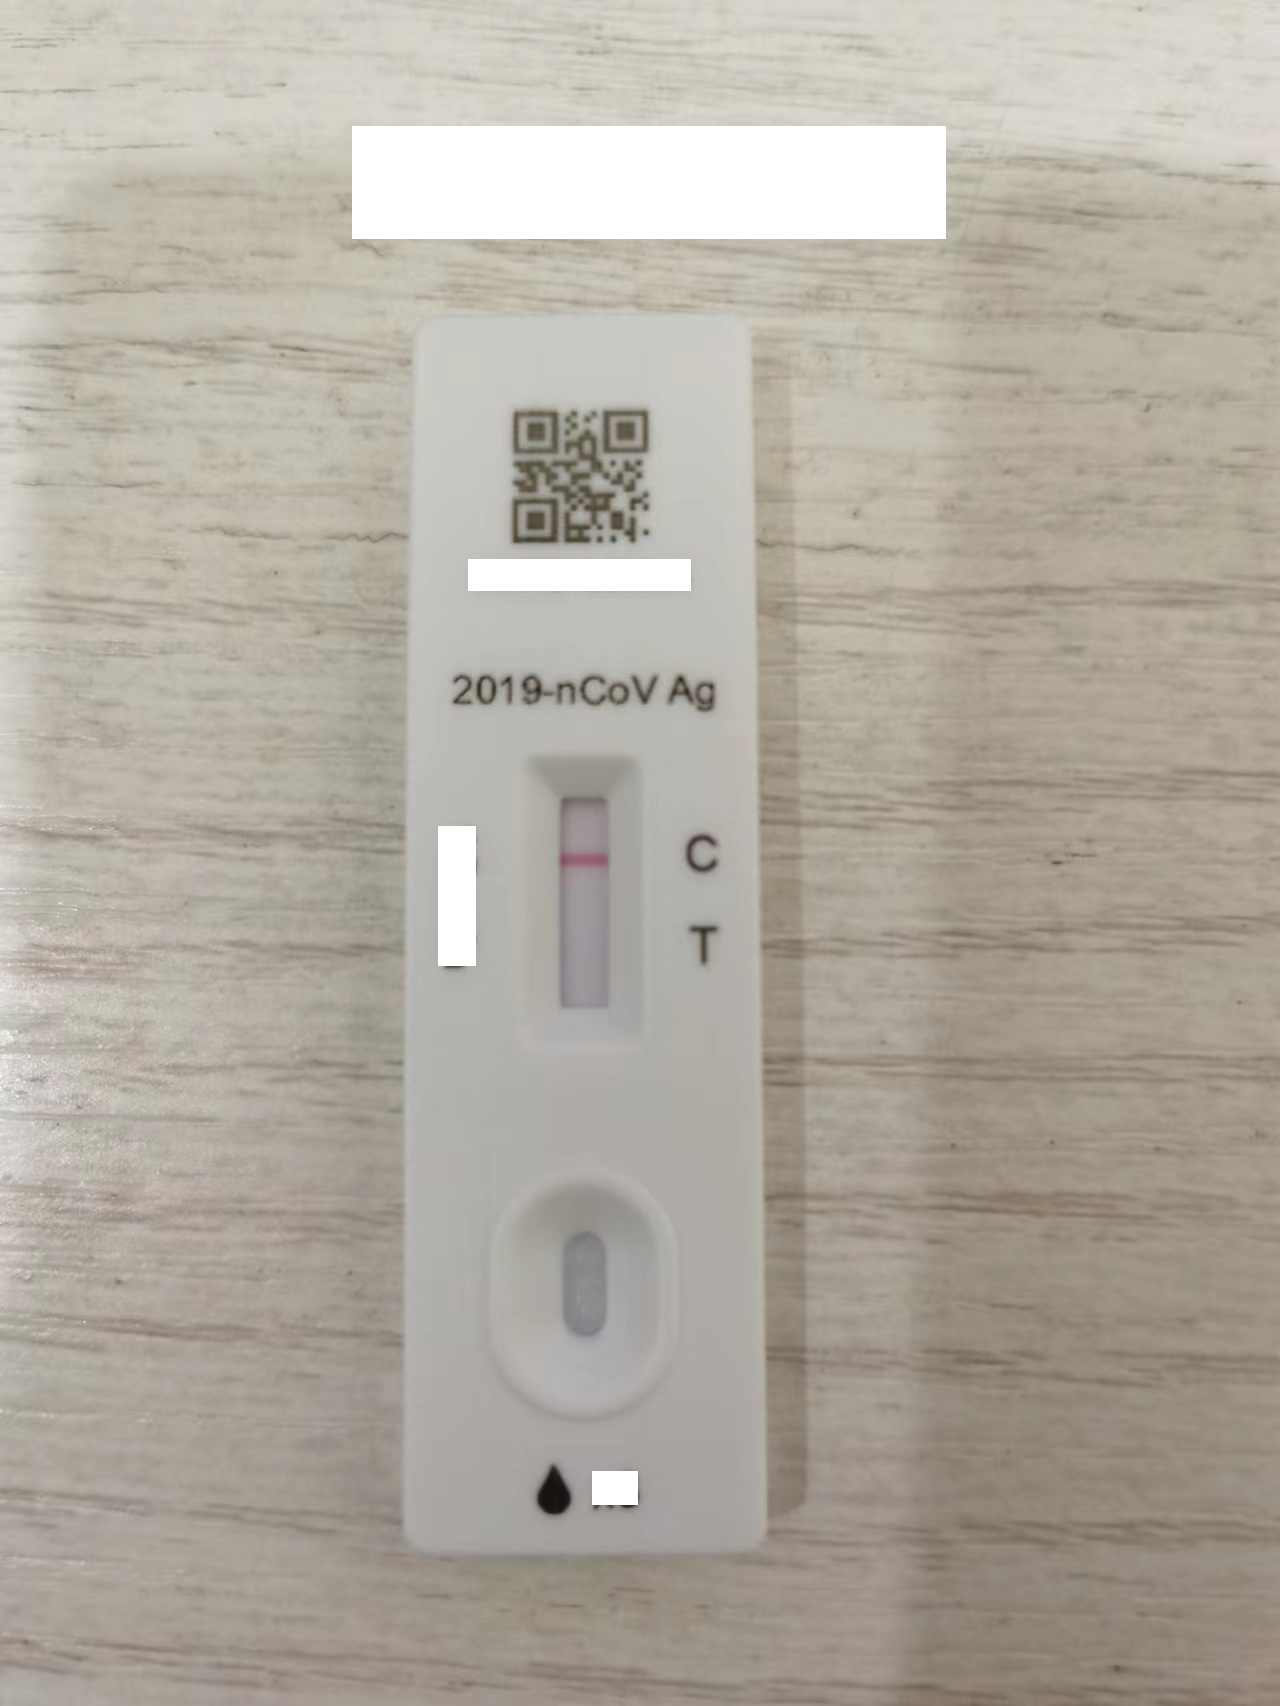negative: (527, 749, 640, 1043)
